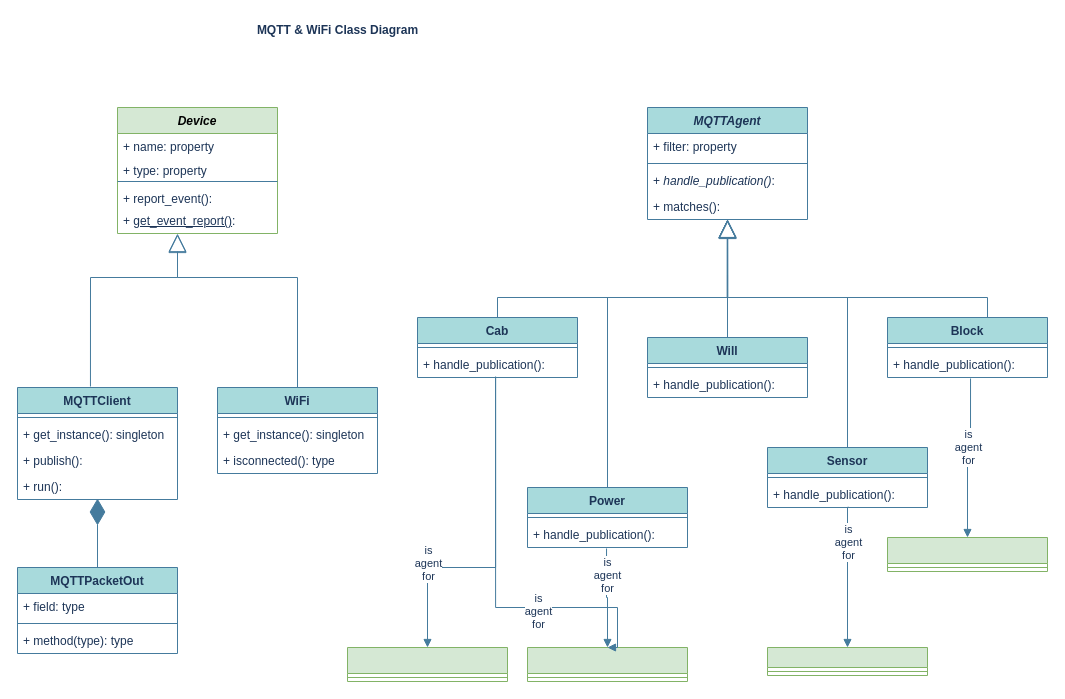
The diagram is 1065 pixels wide and 699 high, and some of its shapes have lost their labels. The centre of each missing label's shape, as x and y in pixels:
"DCCBlkDet" belongs at [847,661].
"DCCCommand" belongs at [607,664].
"RComBlkDet" belongs at [967,554].
"RComCmdRsp" belongs at [427,664].
